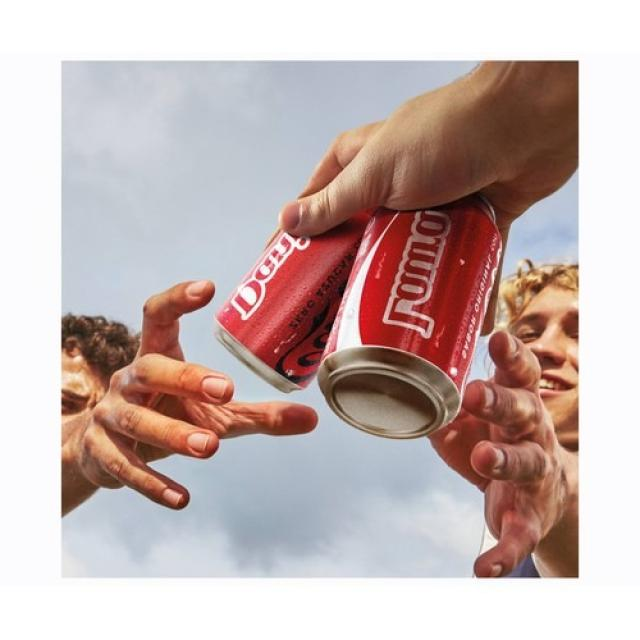coca cola: (272, 250, 356, 396)
